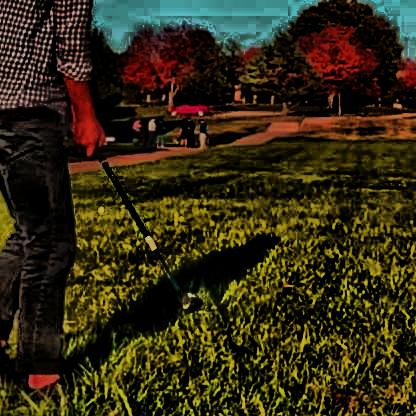golfball: (94, 203, 104, 211)
